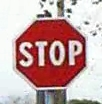stop: (12, 16, 87, 88)
